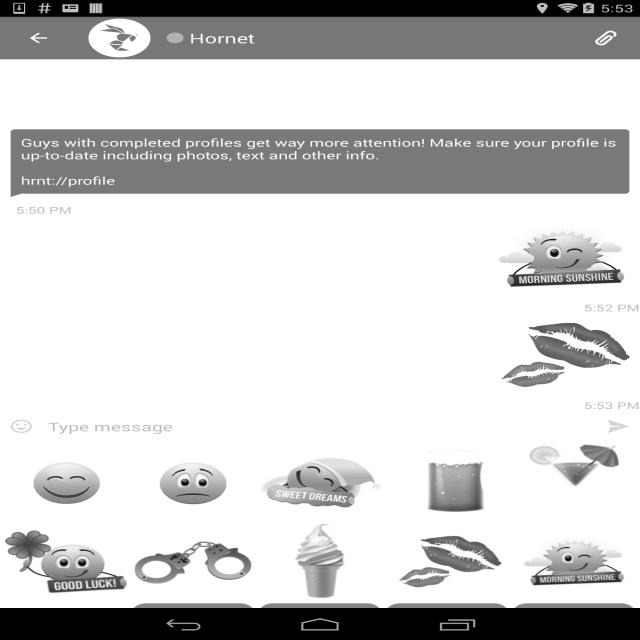EditText: (37, 412, 603, 441)
ImageButton: (9, 17, 68, 59)
ImageView: (486, 224, 638, 291), (486, 322, 638, 389), (5, 444, 127, 520), (132, 444, 254, 520), (259, 444, 381, 520), (386, 444, 508, 520), (513, 444, 635, 520), (5, 524, 127, 600), (132, 524, 254, 600), (259, 524, 381, 600), (386, 524, 508, 600), (513, 524, 635, 600), (5, 603, 127, 640), (132, 603, 254, 640), (259, 603, 381, 640), (386, 603, 508, 640), (513, 603, 635, 640), (88, 19, 150, 57), (5, 416, 38, 436), (602, 416, 634, 436)
TextView: (12, 132, 628, 194), (580, 22, 632, 54), (166, 29, 255, 47), (584, 301, 640, 314), (584, 399, 640, 412), (16, 204, 72, 216)
